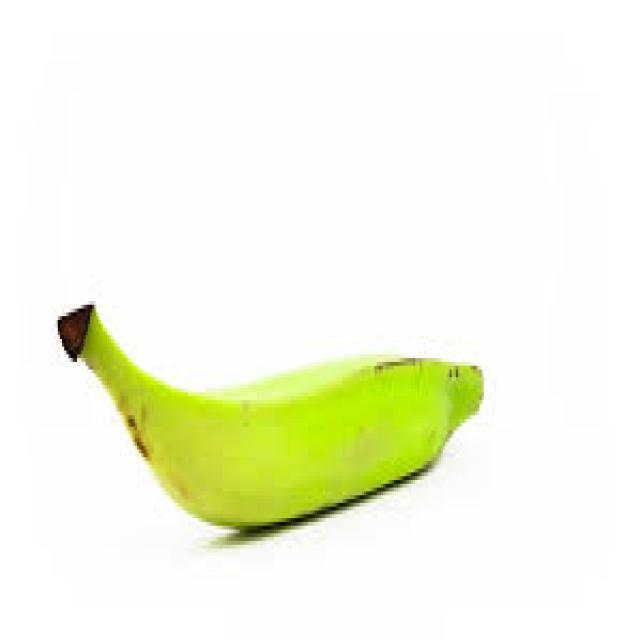agrume: (59, 301, 485, 534)
